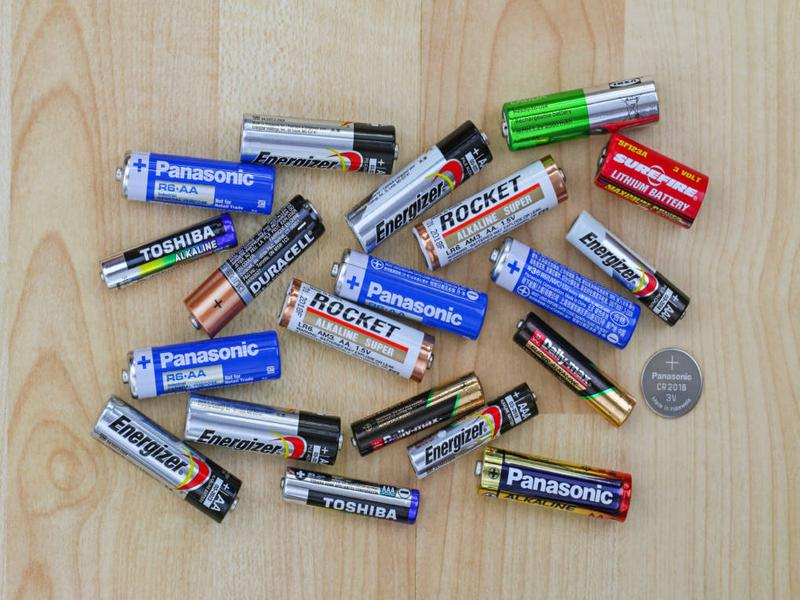battery: (182, 189, 331, 344), (77, 397, 247, 529), (339, 119, 497, 257), (408, 153, 579, 277), (486, 229, 643, 354), (276, 274, 444, 385), (561, 208, 699, 330), (328, 244, 494, 344), (507, 312, 645, 432), (468, 446, 638, 529), (178, 391, 351, 472), (497, 74, 671, 154), (406, 380, 540, 482), (587, 131, 723, 230), (113, 330, 292, 404), (347, 369, 487, 461), (93, 211, 244, 294), (109, 147, 285, 218), (234, 109, 405, 178), (268, 465, 431, 528)
